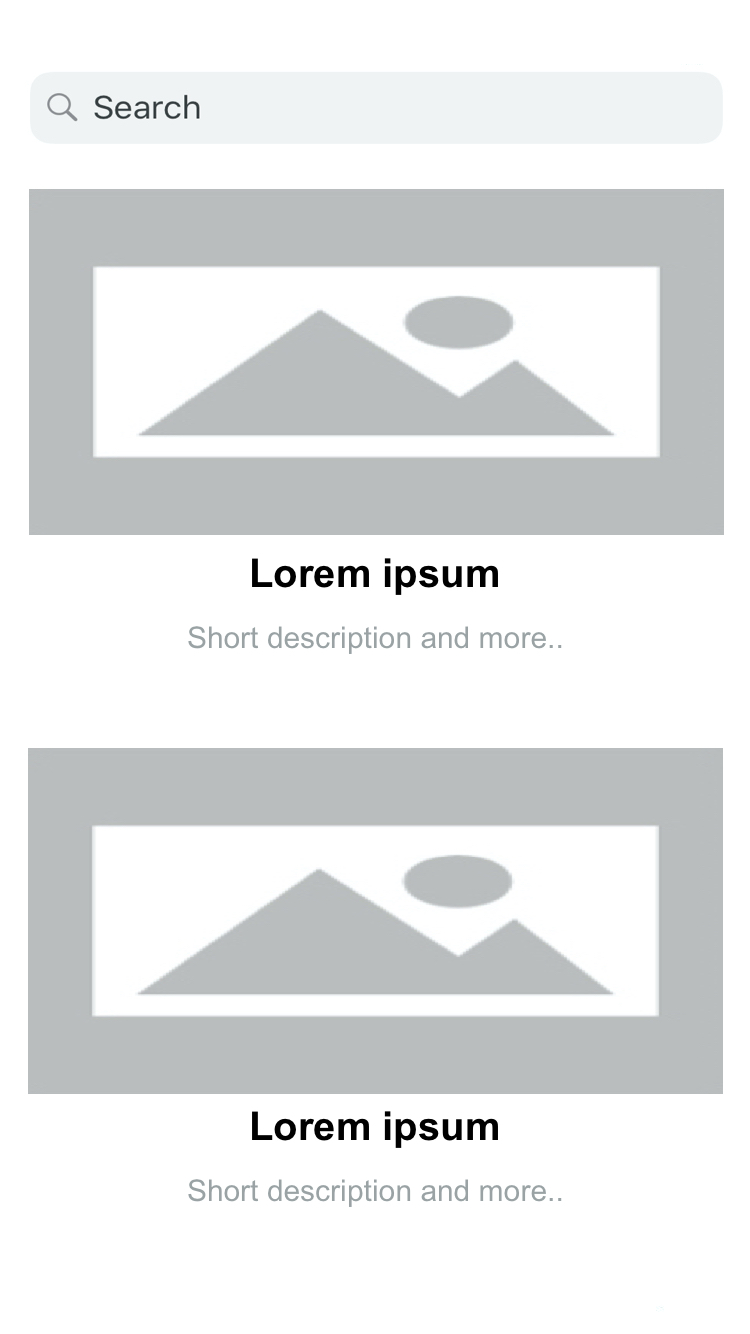EditText: (30, 72, 724, 146)
Icon: (47, 93, 79, 123)
Image: (28, 747, 727, 1096), (29, 189, 727, 537)
Text: (188, 626, 563, 655), (188, 1178, 563, 1207), (252, 1109, 500, 1148), (252, 558, 499, 596), (94, 95, 202, 121)
